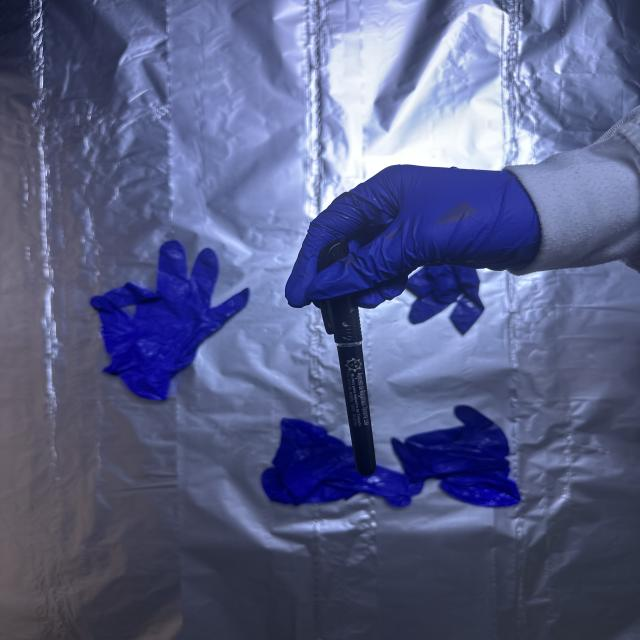gloves_contaminated: (286, 165, 540, 308)
